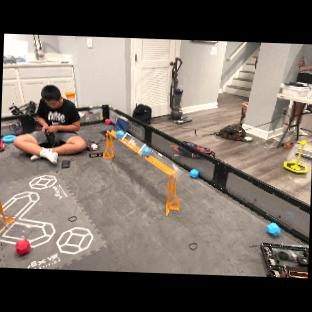Goal: (107, 127, 179, 176)
Robot: (259, 242, 309, 278)
V5_BLUE: (264, 223, 282, 237), (189, 168, 200, 179)
V5_RED: (15, 237, 32, 257), (105, 119, 112, 126)
blueingoal: (139, 147, 151, 158), (114, 130, 126, 141)
